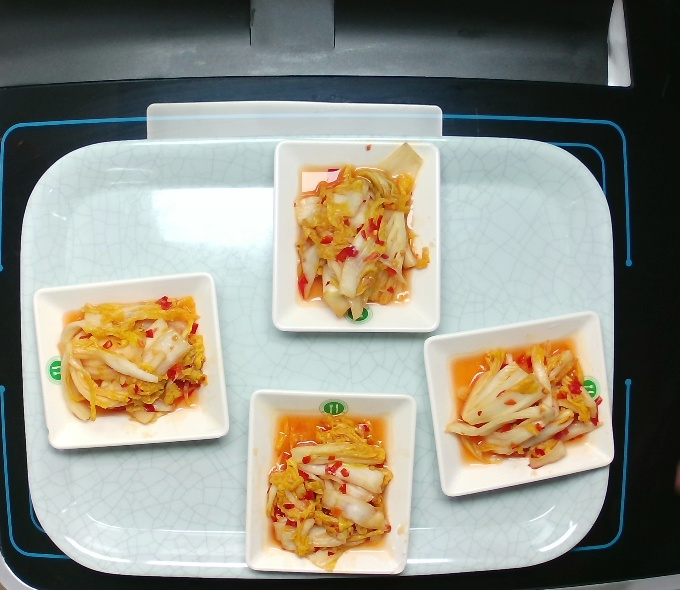wcq-SuanLaBaiCai: (445, 338, 609, 474), (292, 163, 424, 318), (275, 403, 393, 561), (59, 304, 211, 420)
